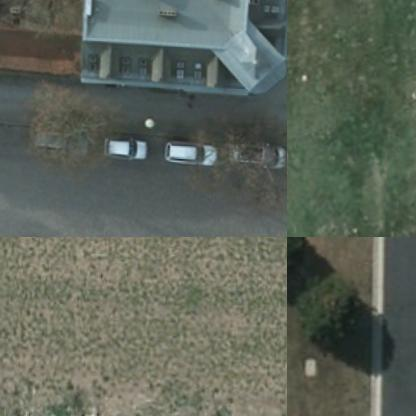car: (228, 143, 286, 178), (28, 122, 80, 152), (162, 142, 215, 170), (102, 134, 146, 164)
